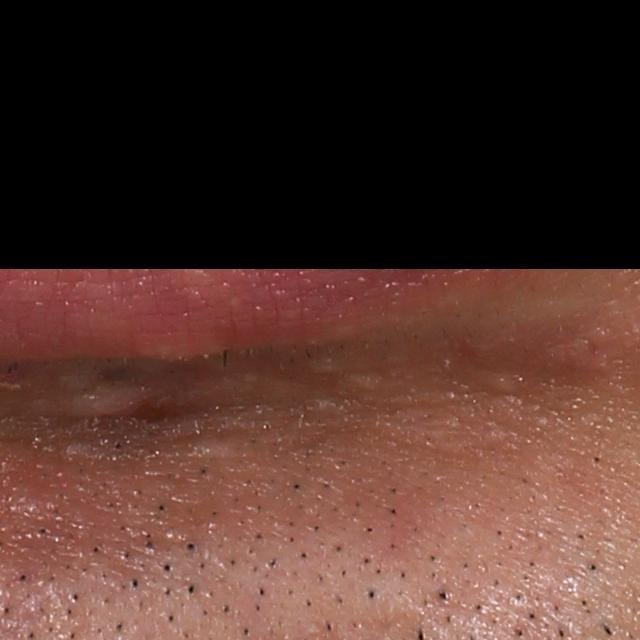hypertrophic_scar: (149, 365, 339, 409), (53, 383, 150, 423), (188, 432, 266, 461), (349, 374, 393, 395), (477, 372, 521, 391)
